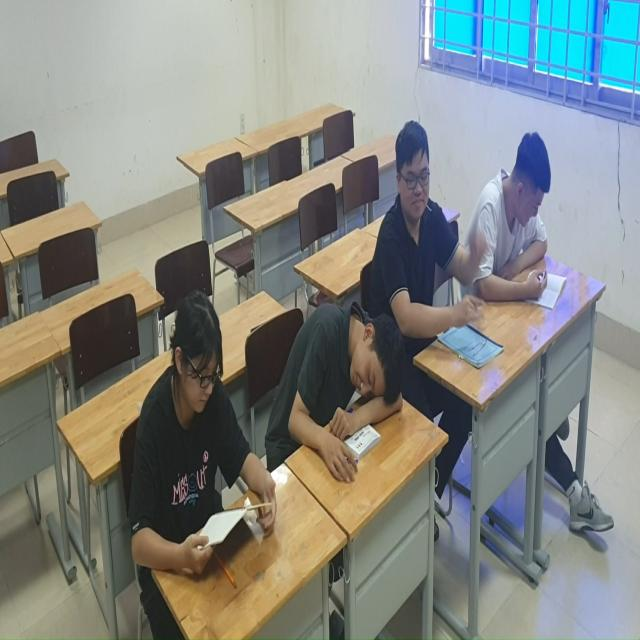raise_hand: (387, 117, 489, 350)
read: (126, 273, 279, 582), (483, 128, 567, 320)
sleep: (284, 288, 410, 500)
